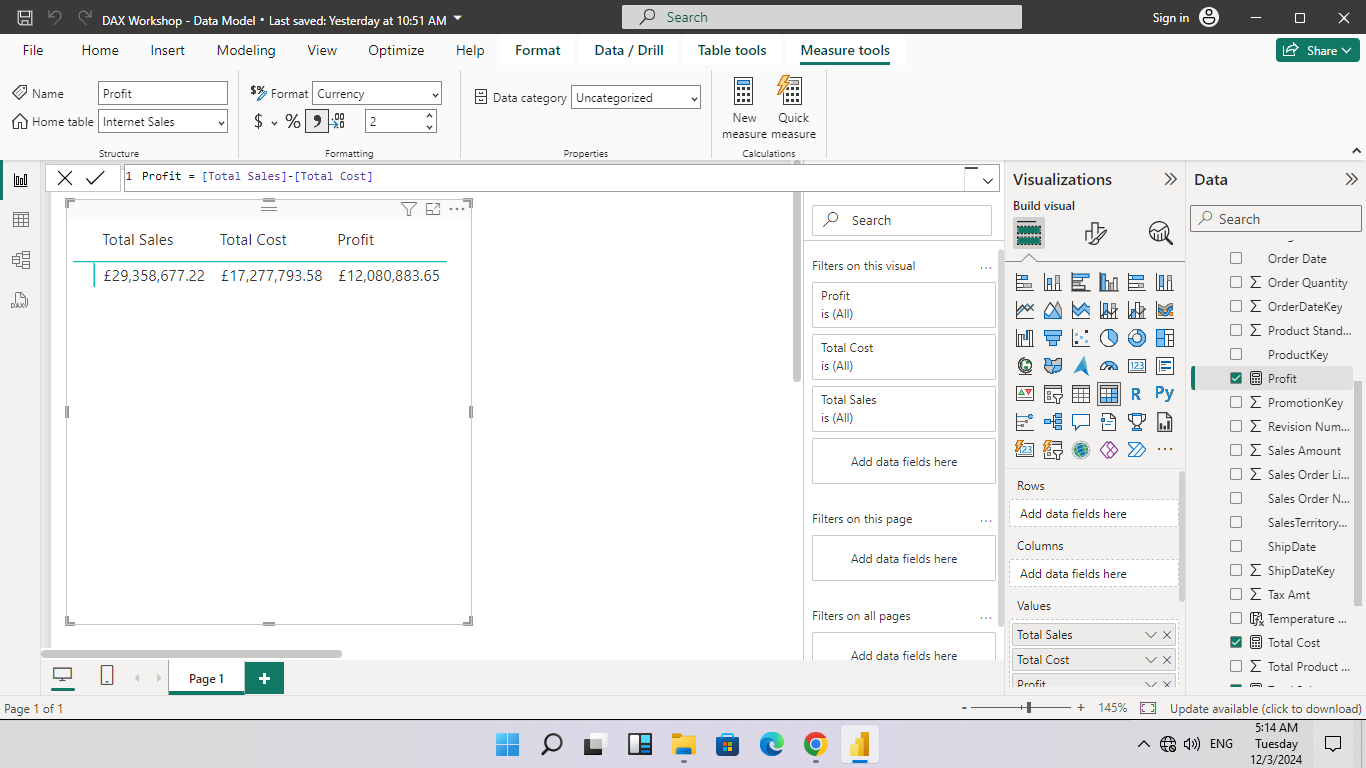

This screenshot's page, from the dashboard's own definition file:
{"tool":"powerbi","page":{"name":"Page 1","canvas":[1280,720],"ordinal":0},"visuals":[{"type":"pivotTable","fields":{"Values":["Internet Sales.Total Sales","Internet Sales.Total Cost","Internet Sales.Profit","Internet Sales.Profit Margin","Internet Sales.Total sales(All Countries)","Internet Sales.Total sales(Canada)","Internet Sales.Total sales(united States)","Internet Sales.Total sales(US & Canada)","Internet Sales.YTD Sales","Internet Sales.Fiscal YTD Sales","Internet Sales.YTD Sales(Weekdays)","Internet Sales.Prior Year sales"],"Rows":["Date.Year"]},"box":[10.3,20,510.3,280],"z":0}]}

Visuals, with their boxes on the page's 1280x720 design canvas (x1, y1, x2, y2). These are canvas units, not pixel positions in the 1366x768 screenshot, which may show the page scaled, cropped or inside an application window:
pivotTable - Internet Sales.Total Sales x Internet Sales.Total Cost: bbox=[10, 20, 521, 300]
